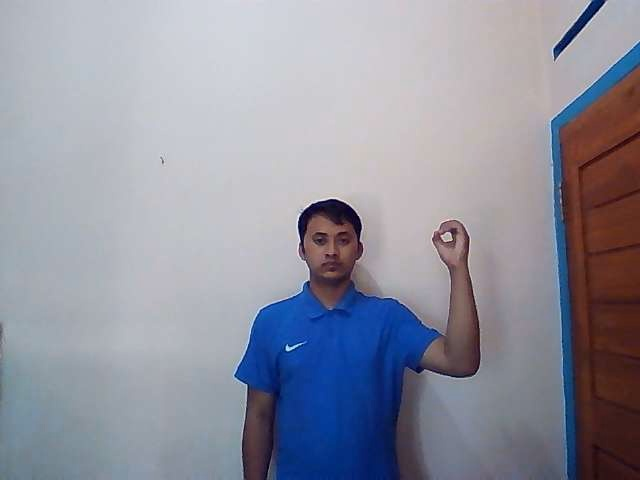O: (430, 217, 469, 265)
